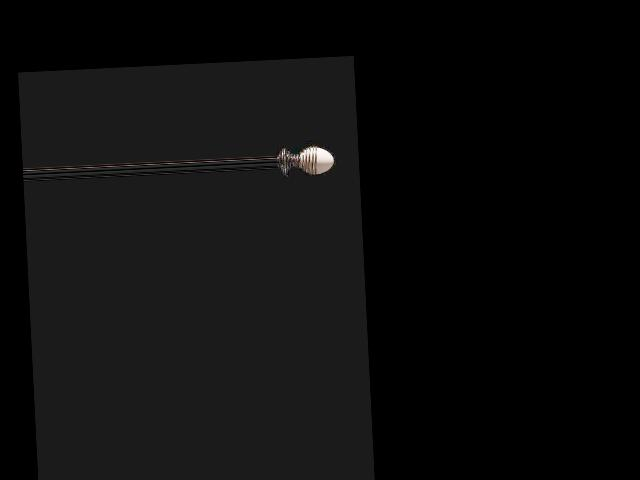egg: (299, 146, 334, 174)
